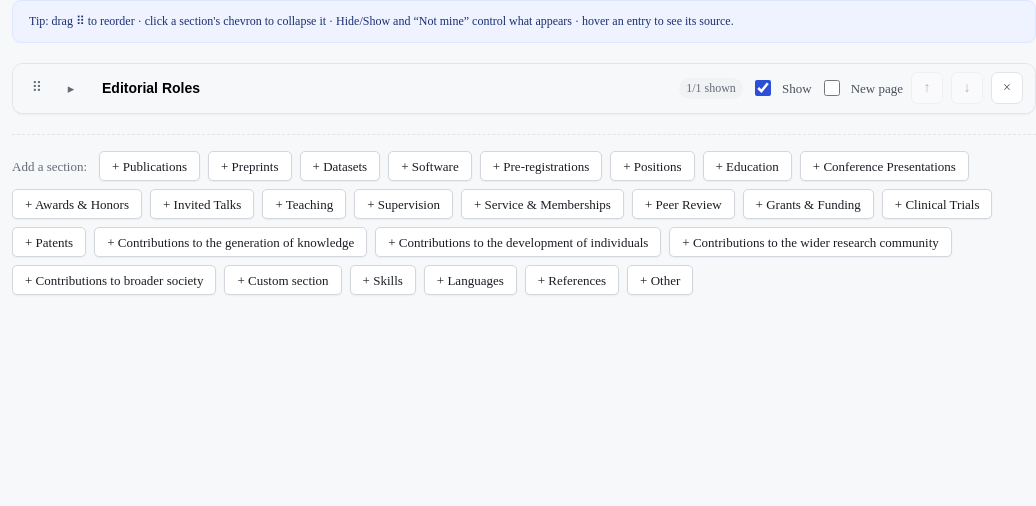
Test: Editorial Roles — Open Editors Plus date note › is absent when every role was typed by the owner
The width and height of the screenshot is (1036, 506).
Click the button with class "section-toggle". click: [71, 88]
box: [57,74,85,102]
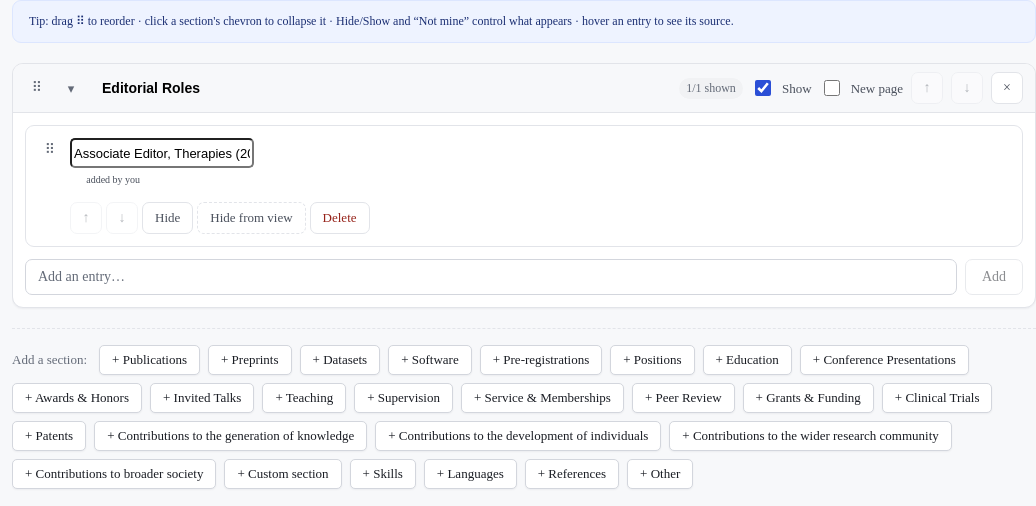
Expected: the list item with class "cv-item-row" is shown, [25,125,1023,247]
